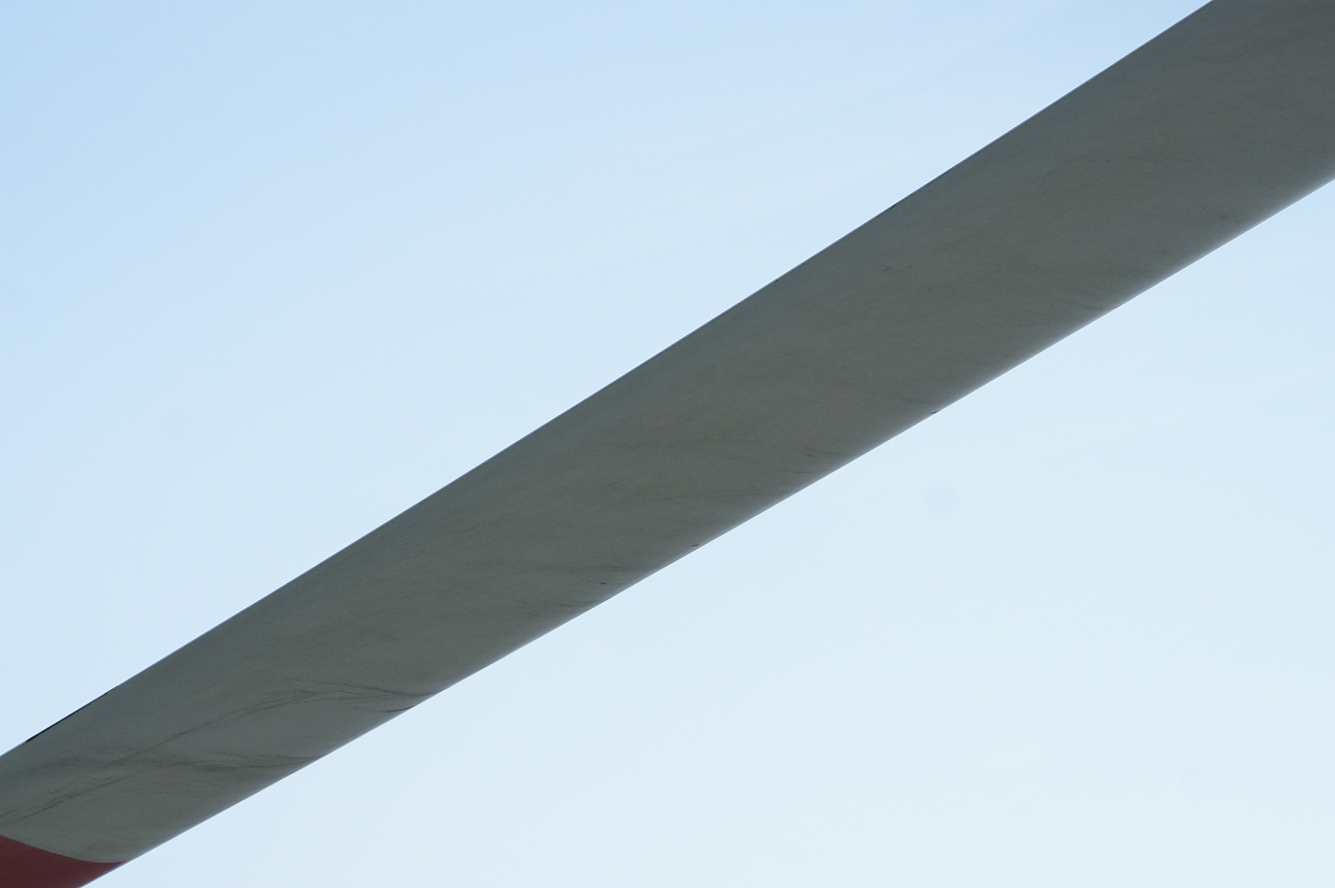Damage: (25, 683, 122, 744)
